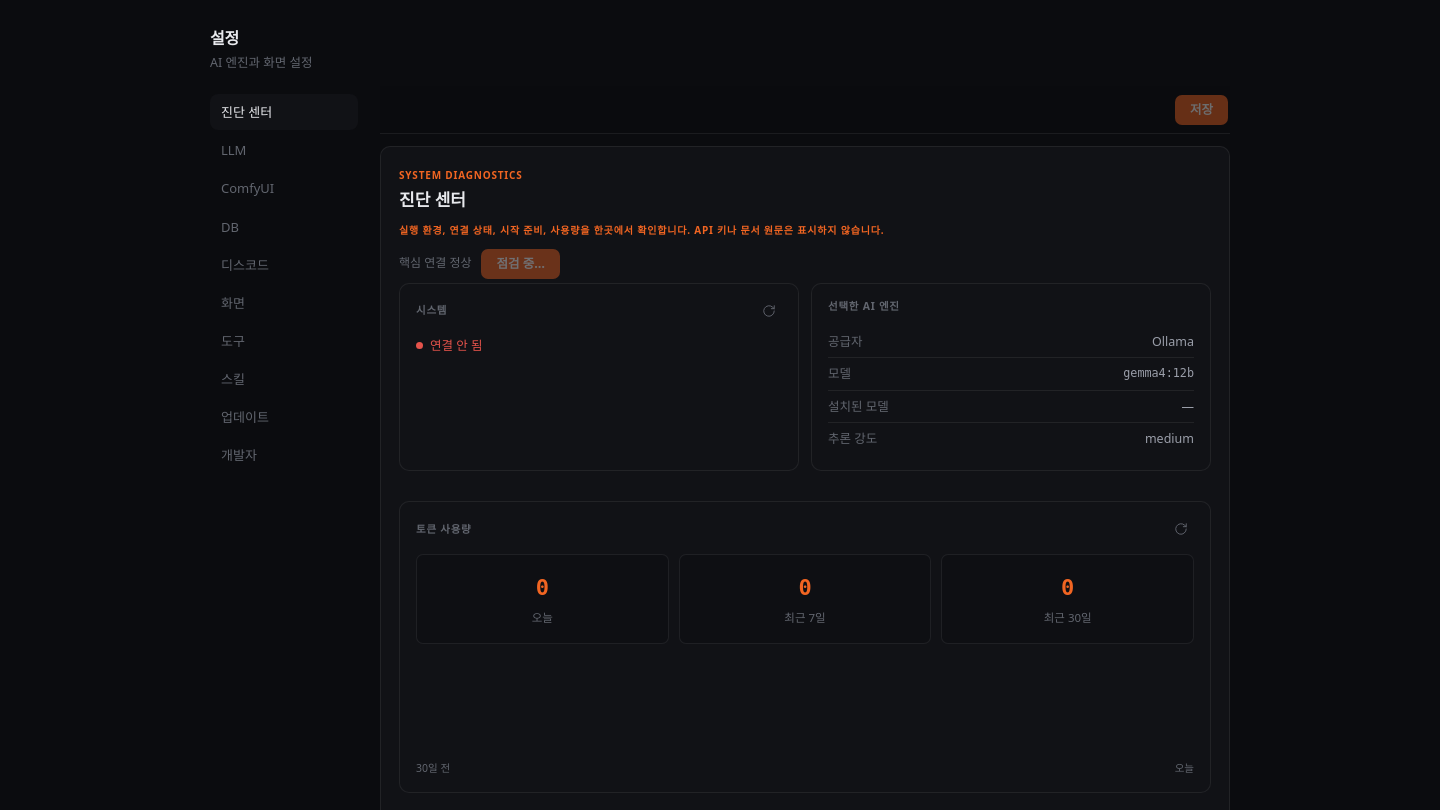
저장소 보고 등록 › 저장소를 고르지 않고 등록하면 그 사실을 말한다
Click the button "디스코드".
click(284, 265)  # box [210,247,358,283]
(page scrolled)
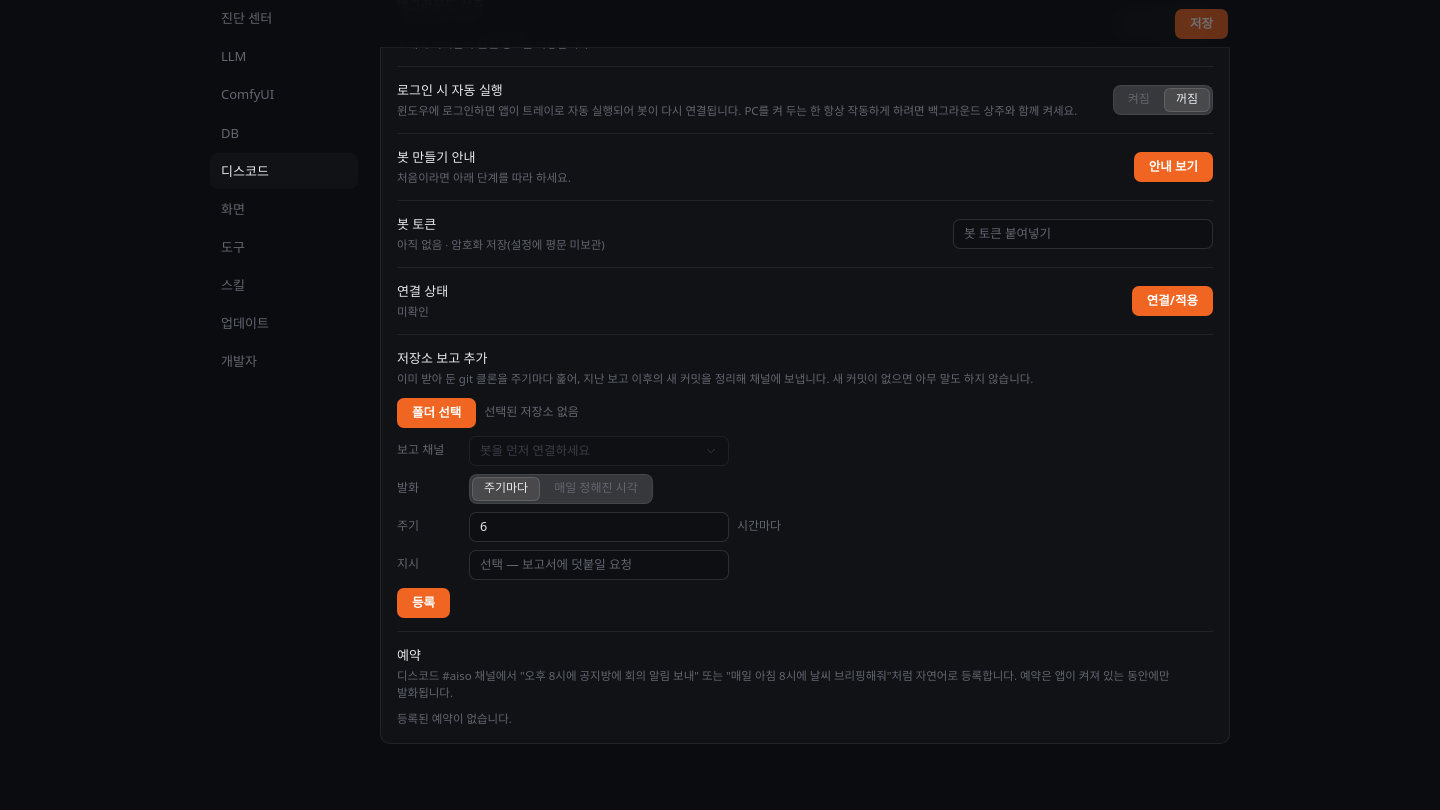
Click the button "등록".
click(424, 602)  # box [397,588,450,618]
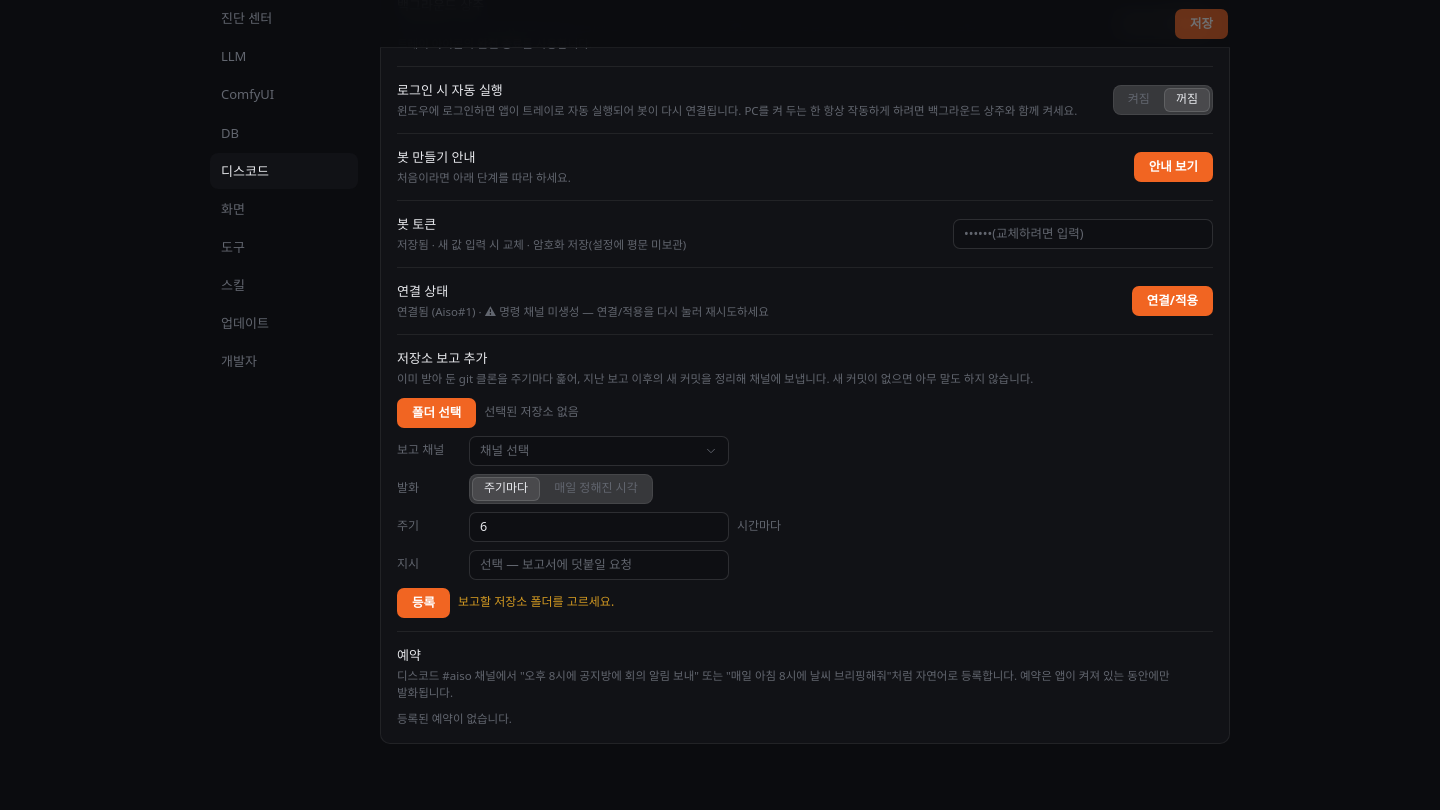
Result: the text "보고할 저장소 폴더를 고르세요." is shown at [458,593,614,612]
